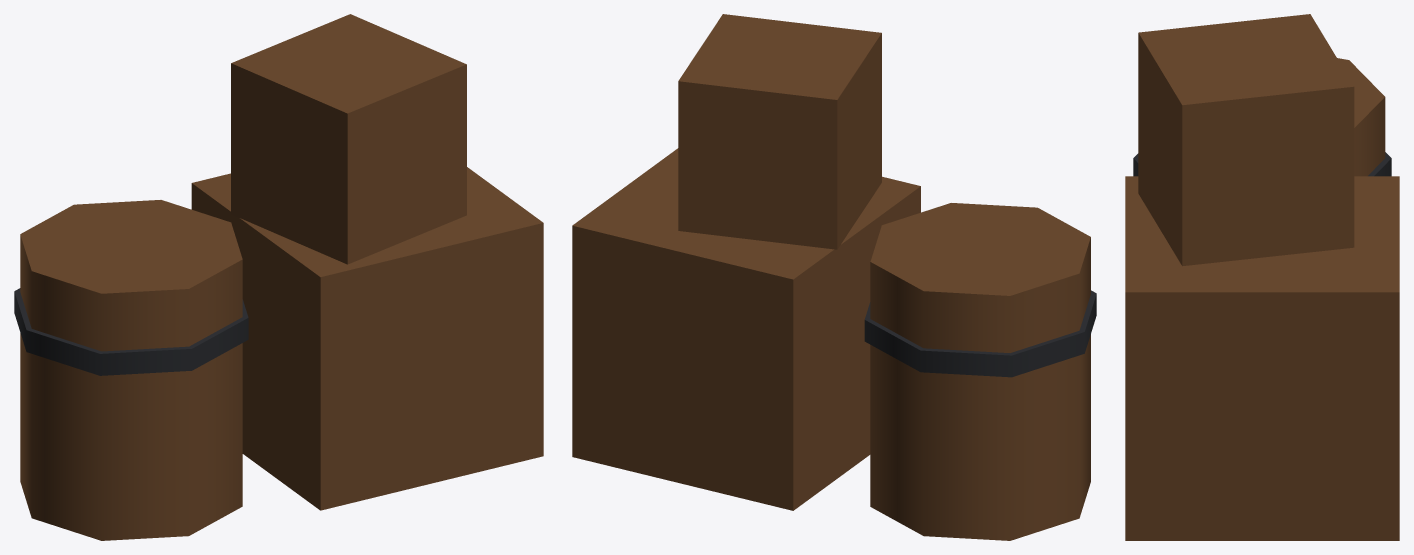
File: prop_crates_barrels.glb
3 renders of one model, left to right at view 1: azimuth 30°, elevation 25°; view 2: azimuth 150°, elevation 25°; view 3: azimuth 270°, elevation 25°, orthographic. The views are drawn at different scales.
Parts seen in each view (by area): view 1: CratesAndBarrels; view 2: CratesAndBarrels; view 3: CratesAndBarrels.
Boxes of the visible parts, x1,y1,x2,y2 form: CratesAndBarrels: (14, 14, 543, 540); CratesAndBarrels: (572, 14, 1096, 540); CratesAndBarrels: (1125, 14, 1399, 540).
Size of the model in its own units: 1.73 by 1.4 by 0.85.
